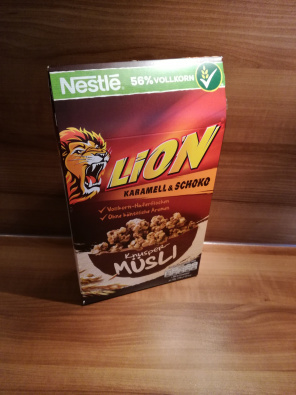cereals: (46, 55, 227, 308)
